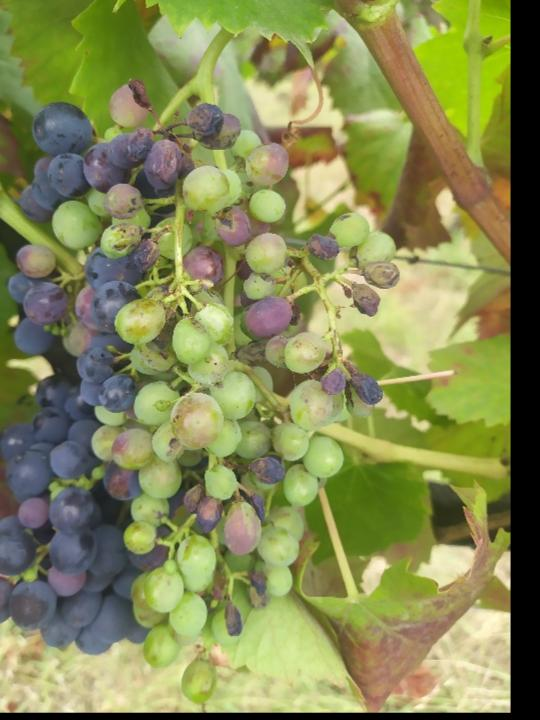grape: (10, 78, 399, 708)
